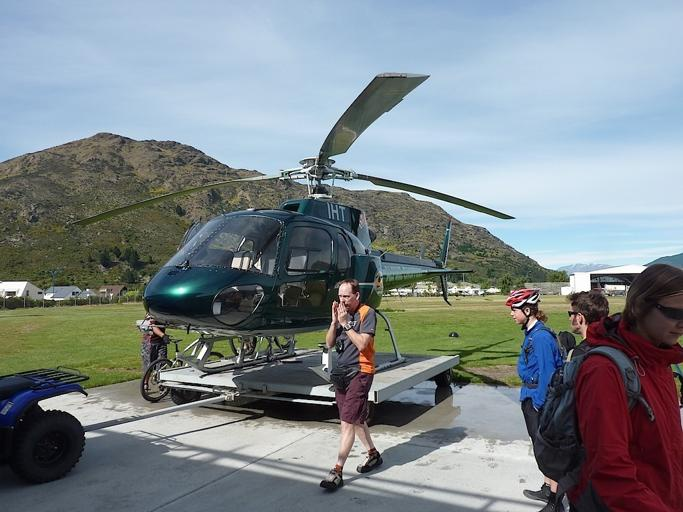non-vehicle: (139, 330, 225, 407), (228, 334, 296, 358)
